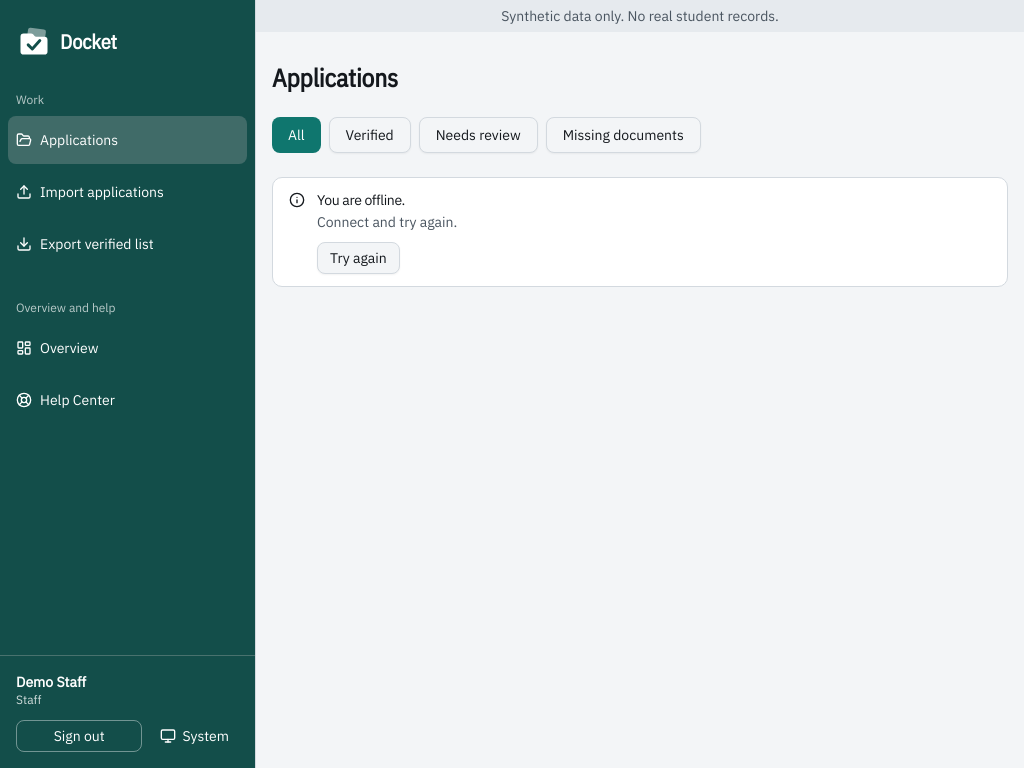
it: the signed-in shell › ends the session on the server when the person signs out
Click the button "Sign out" at (79, 736), box [16,720,142,752]
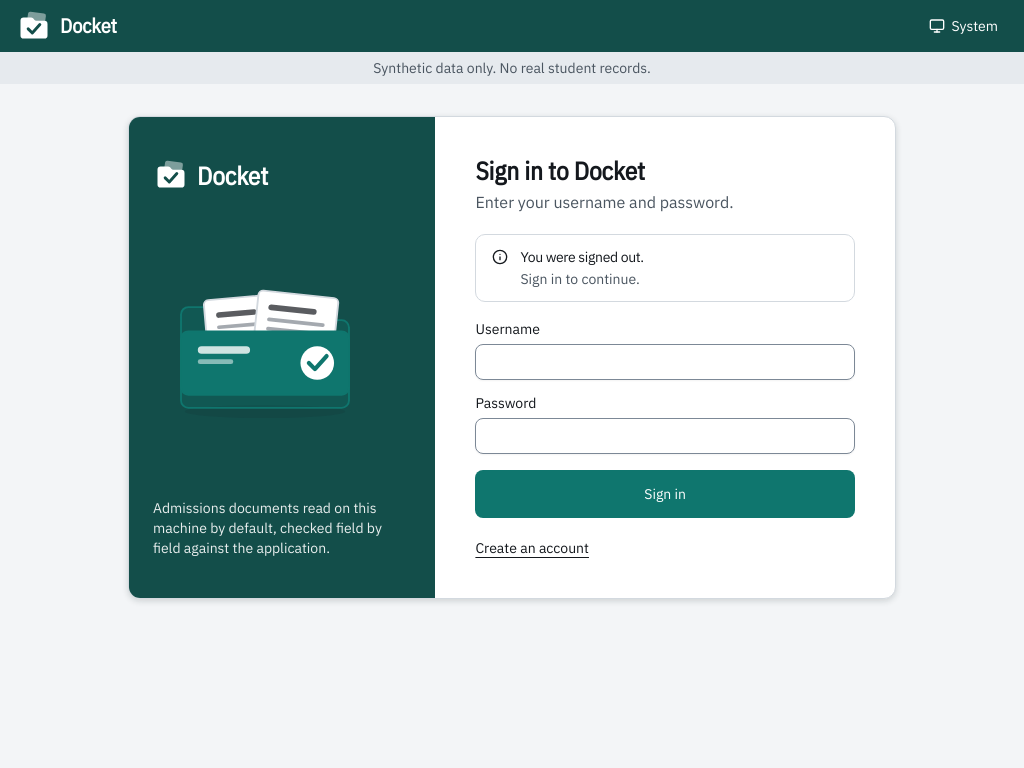
Now the heading "Sign in to Docket" is shown, box [475,154,645,187]
